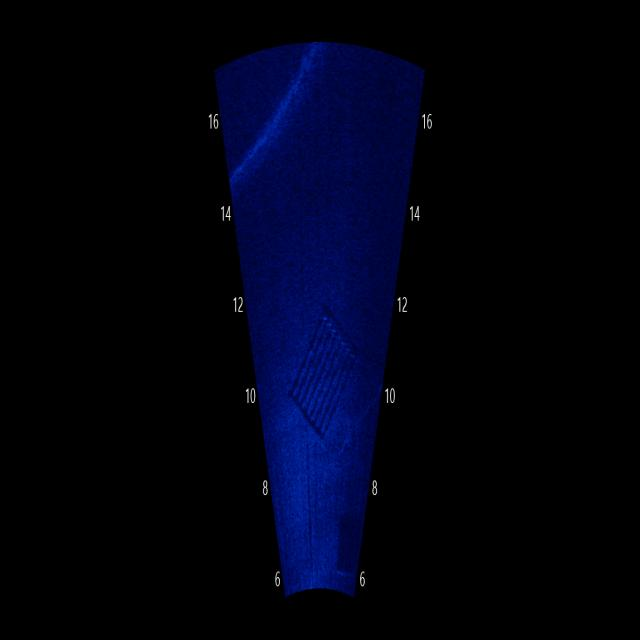square: (280, 294, 368, 456)
